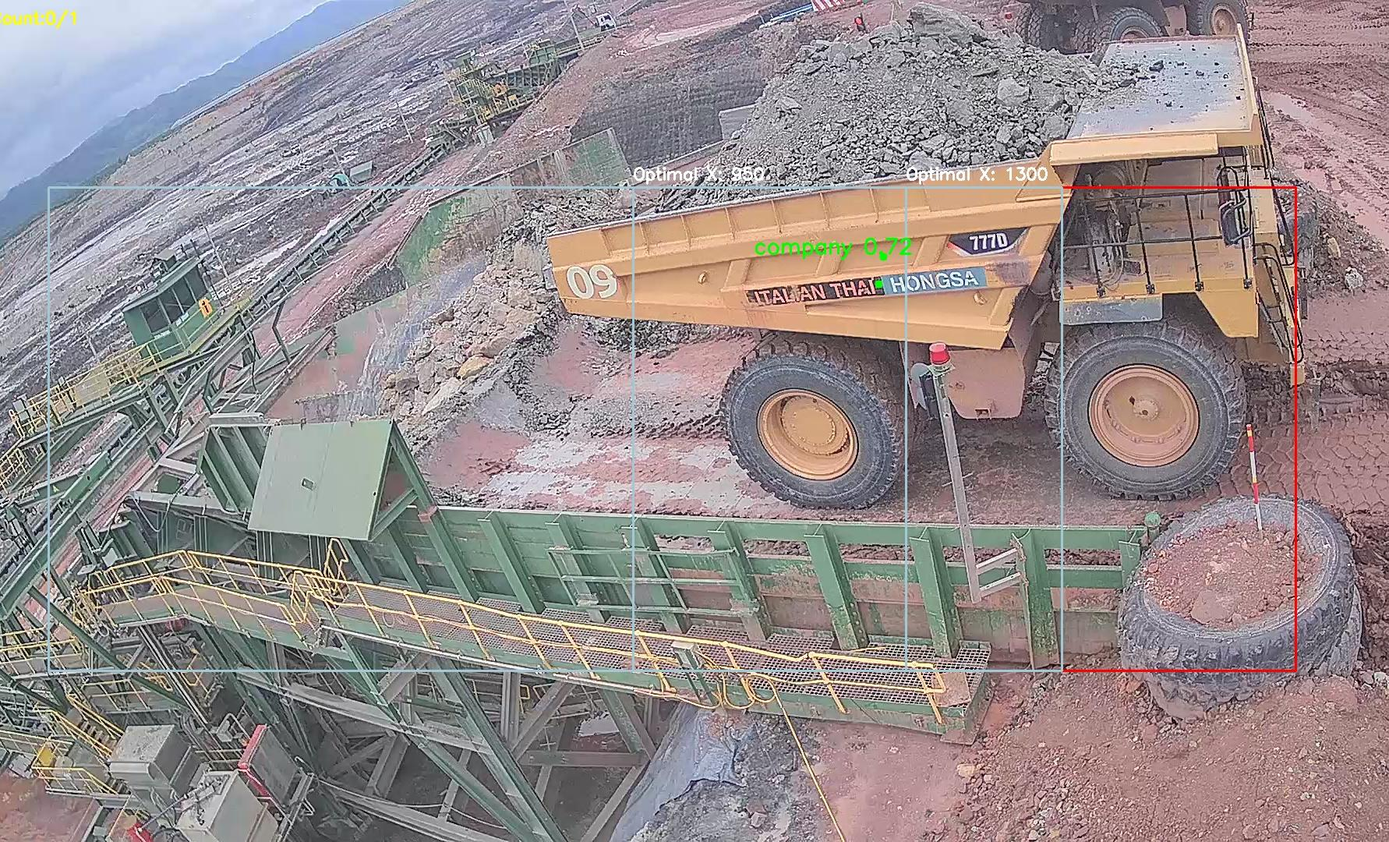company: (730, 261, 992, 313)
full_load: (720, 16, 1085, 188)
mining_truck: (534, 8, 1311, 506)
tail_number: (560, 254, 629, 306)
truck_size: (931, 218, 1033, 254)
